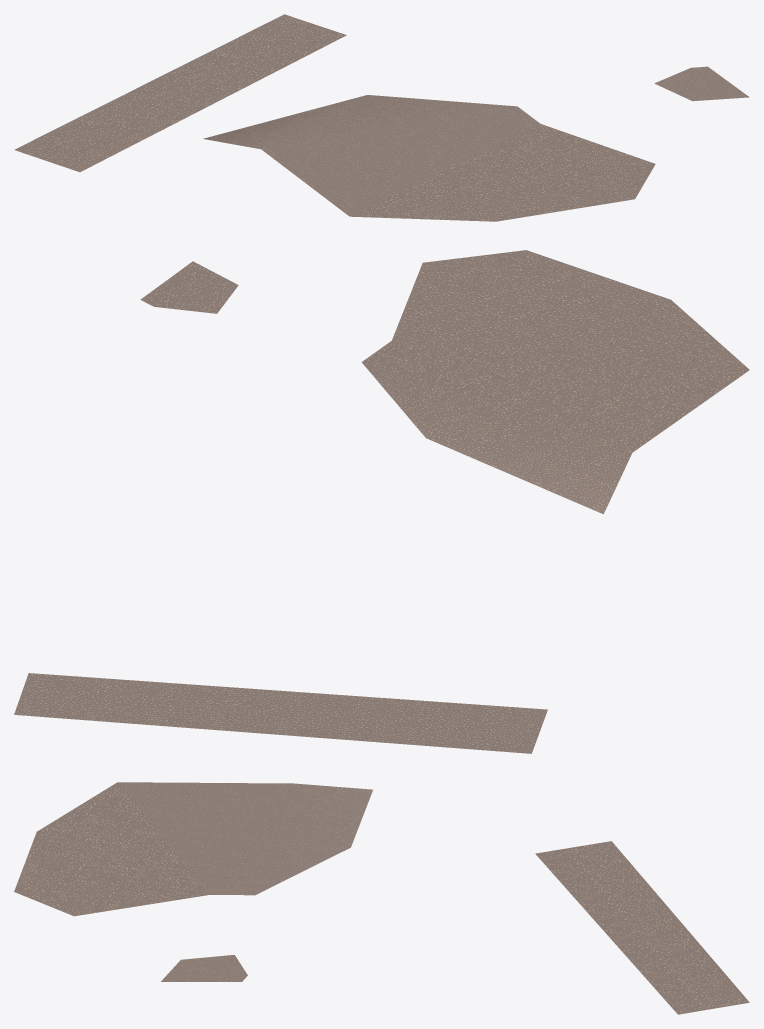
File: kd_stage_1363c5_6_14_bounded.glb
3 views of the same model, one above another, from view 1: azimuth 30°, elevation 25°; view 2: azimuth 150°, elevation 25°; view 3: azimuth 270°, elevation 25° (orthographic). The views are drawn at different scales.
Visible parts, largest first — view 1: kd_stage_1363c5_6_14_bounded; view 2: kd_stage_1363c5_6_14_bounded; view 3: kd_stage_1363c5_6_14_bounded.
Part boxes in pixels (bbox=[...]): kd_stage_1363c5_6_14_bounded: bbox=[14, 14, 749, 221]; kd_stage_1363c5_6_14_bounded: bbox=[14, 250, 749, 753]; kd_stage_1363c5_6_14_bounded: bbox=[14, 782, 749, 1014].
Size of the model in its own units: 31.65 by 6.02 by 41.38.
Materials: 1 (1 with a texture image).
